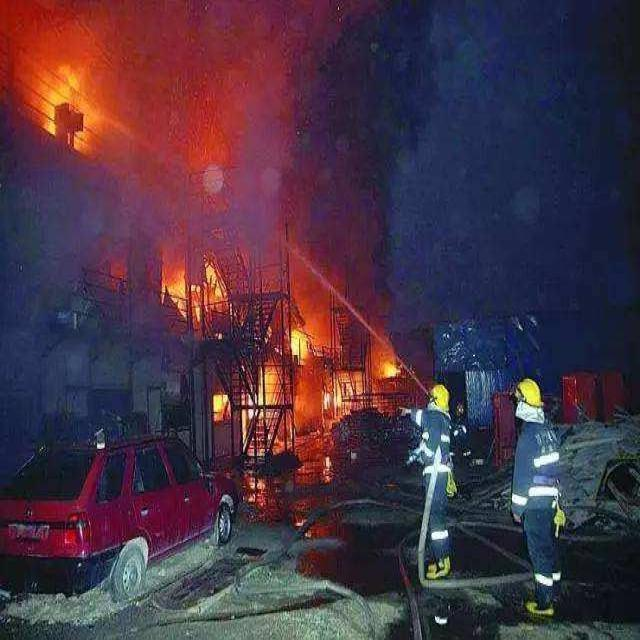fire: (158, 228, 427, 501), (26, 74, 84, 134)
